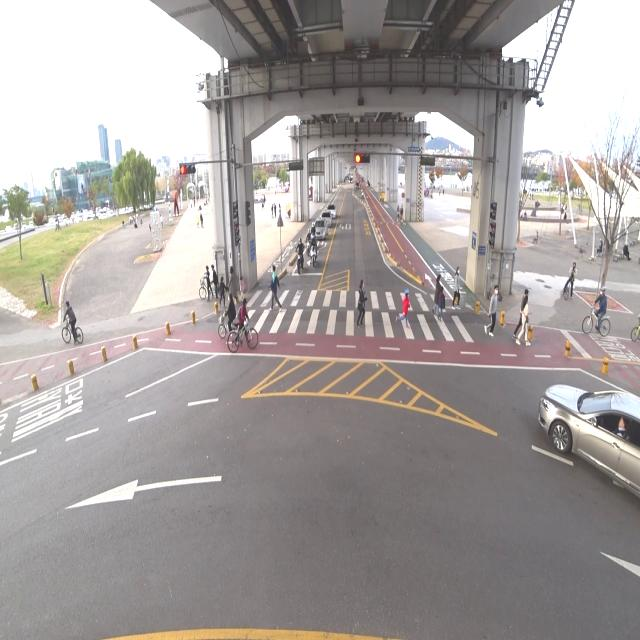Car: (537, 366, 640, 509), (312, 218, 328, 242), (319, 207, 331, 230), (328, 201, 337, 221)
Motorcycle: (295, 236, 306, 274), (308, 234, 318, 266)
